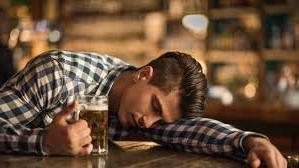Drunk: (118, 81, 185, 130)
